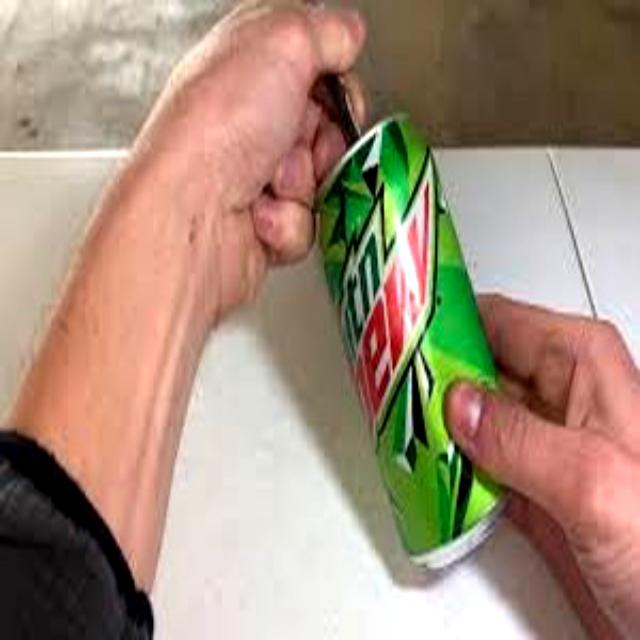Metal: (322, 116, 510, 566)
